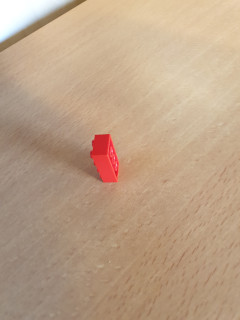2x4 red: (88, 133, 121, 186)
